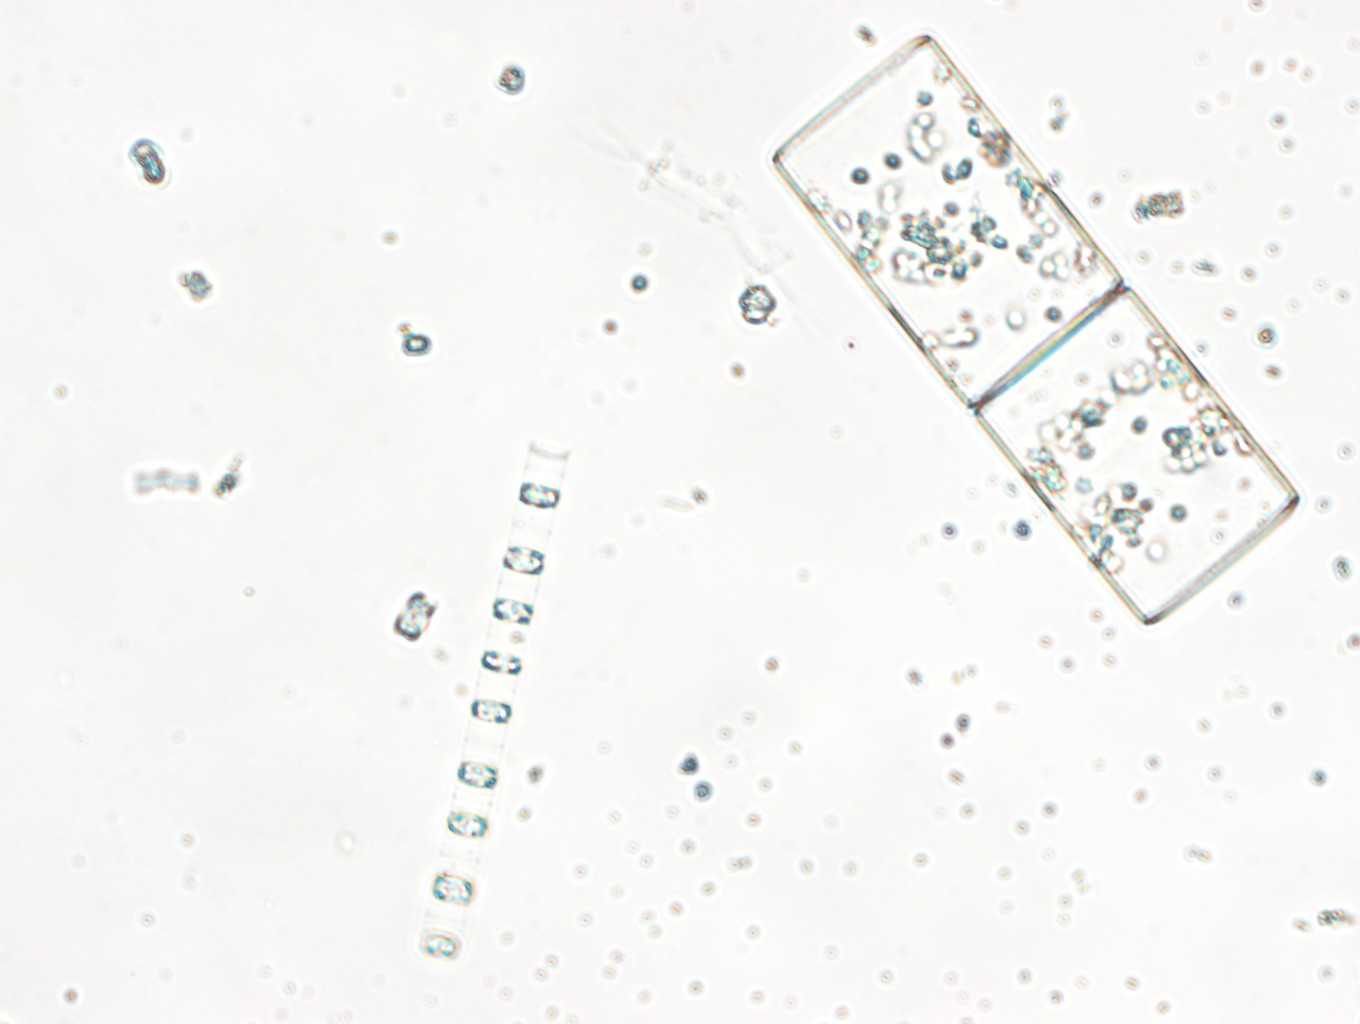guinardia flaccida: (769, 31, 1300, 625)
skeletonema: (418, 441, 568, 959)
